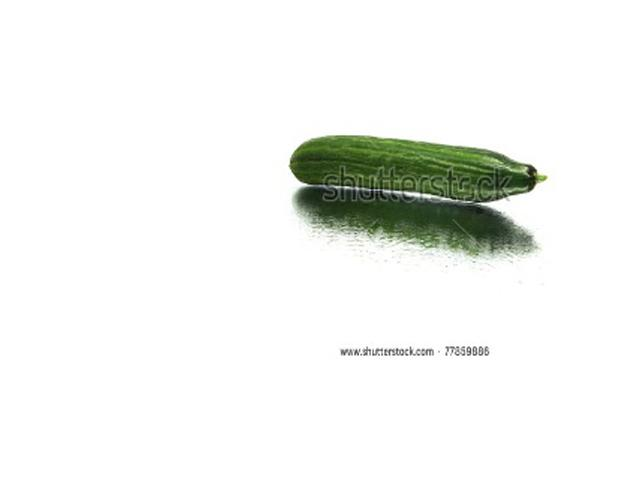cucumber: (291, 134, 546, 203)
